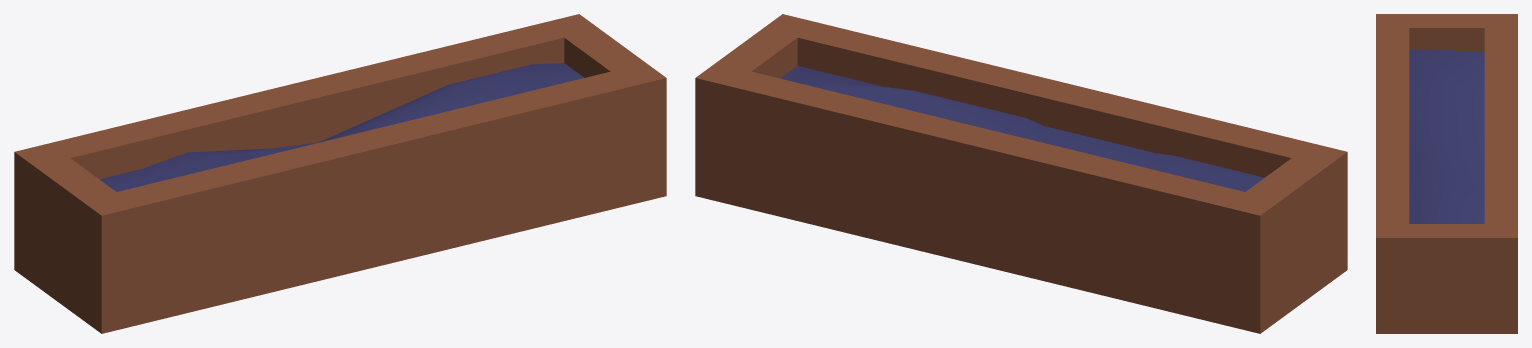
Rendered from Market_goods_5.fbx.
3 renders of one model, left to right at view 1: azimuth 30°, elevation 25°; view 2: azimuth 150°, elevation 25°; view 3: azimuth 270°, elevation 25°, orthographic. The views are drawn at different scales.
Visible parts, largest first — view 1: Market_goods_5; view 2: Market_goods_5; view 3: Market_goods_5.
Part boxes in pixels (x1=…): Market_goods_5: x1=14, y1=14, x2=666, y2=333; Market_goods_5: x1=695, y1=14, x2=1347, y2=333; Market_goods_5: x1=1376, y1=14, x2=1517, y2=333.
Bounding box in the file's own units: 0.478 × 0.0956 × 0.128.
